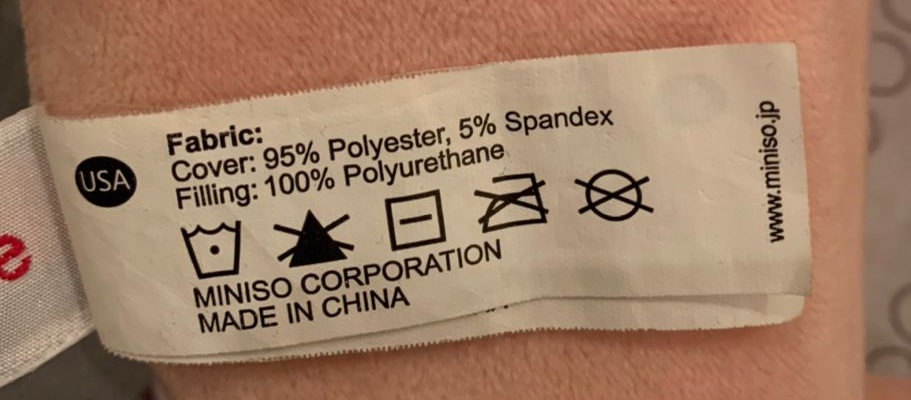do_not_bleach: (273, 198, 360, 271)
do_not_dry_clean: (572, 158, 659, 224)
do_not_iron: (477, 165, 551, 236)
dry_flat: (379, 184, 449, 254)
wash_at_or_below_30: (179, 218, 245, 282)
